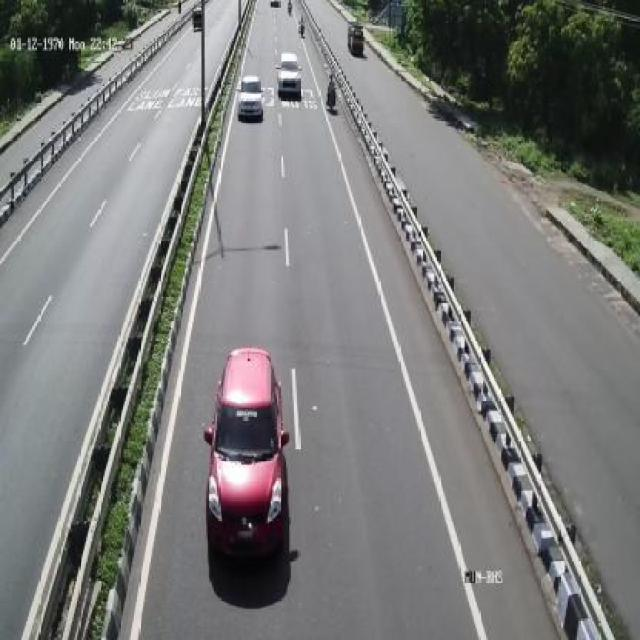car: (204, 337, 294, 568), (238, 68, 268, 126), (277, 48, 306, 104)
